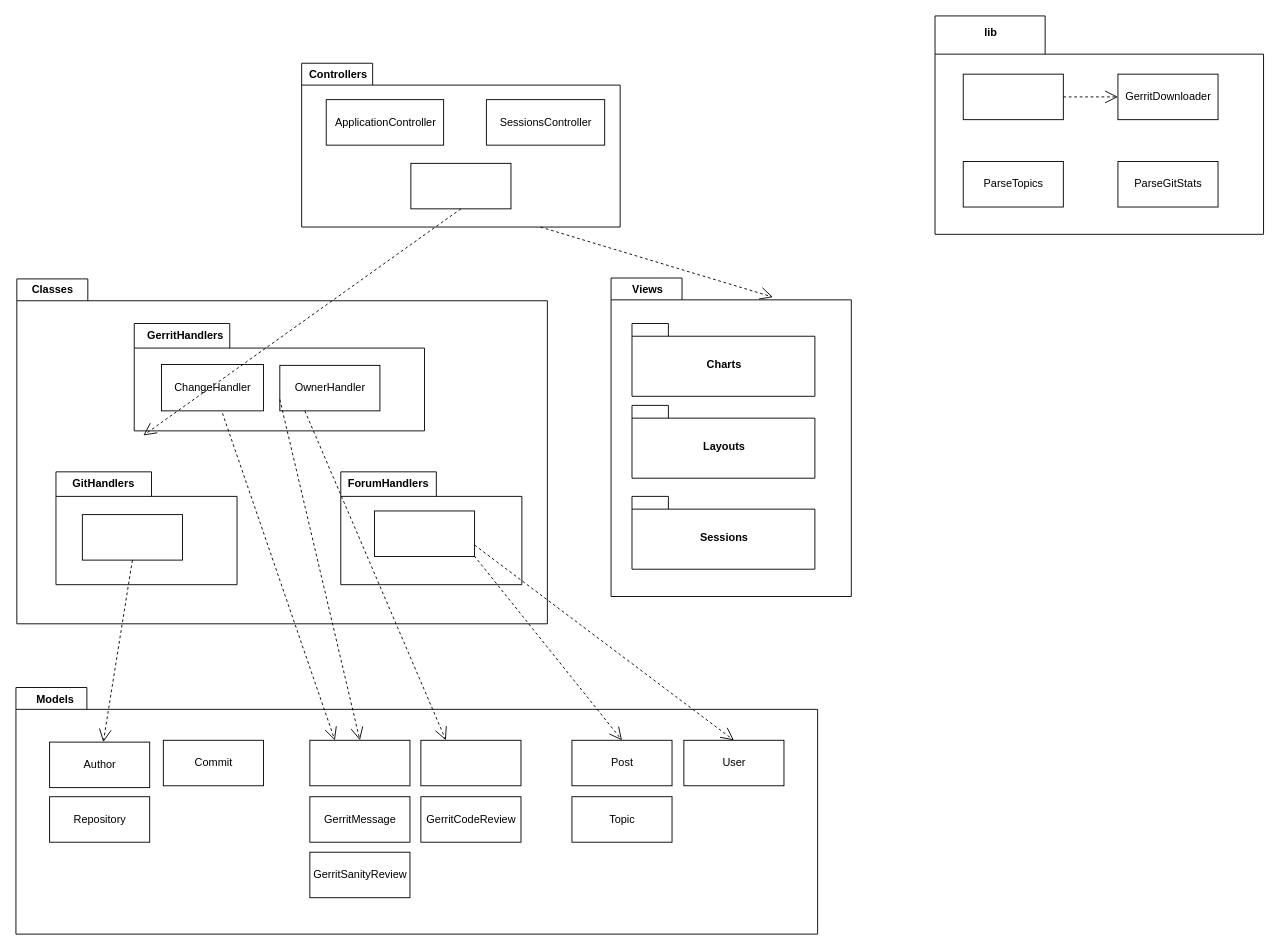
Image size: 1279x950. Some labels were removed from this diagram. The shapes that lost their labels are listed below. From the top down, each one's centre as x and y in pixels, then its label:
At (x=1012, y=96): "ParseGerritData".
At (x=460, y=185): "ChartsController".
At (x=131, y=537): "GitHandler".
At (x=424, y=533): "UserHandler".
At (x=359, y=762): "GerritChange".
At (x=470, y=762): "GerritOwner".
